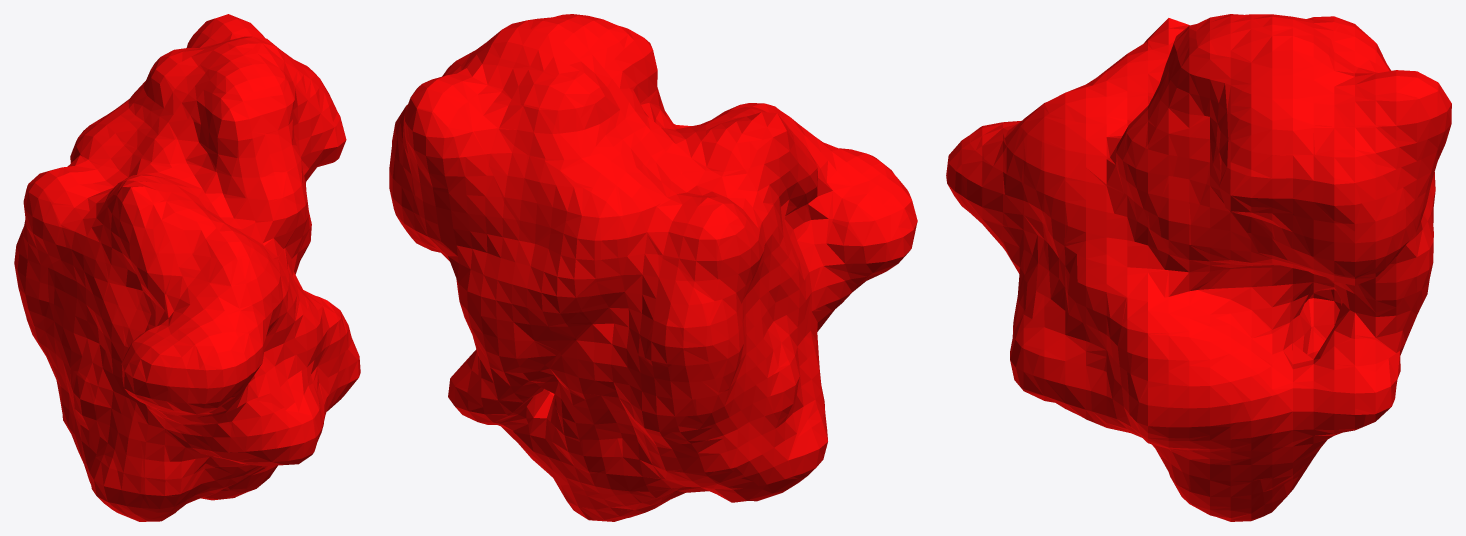
File: sdaA_coarse.dae
The picture shows the model from 3 angles, left to right: view 1: azimuth 30°, elevation 25°; view 2: azimuth 150°, elevation 25°; view 3: azimuth 270°, elevation 25°; orthographic projection. The views are drawn at different scales.
Visible parts, largest first — view 1: sdaA; view 2: sdaA; view 3: sdaA.
Boxes of the visible parts, <box> form: sdaA: <box>14,14,360,521</box>; sdaA: <box>389,14,917,521</box>; sdaA: <box>946,14,1451,521</box>.
Bounding box in the file's own units: 55.56 × 72.16 × 63.86.
